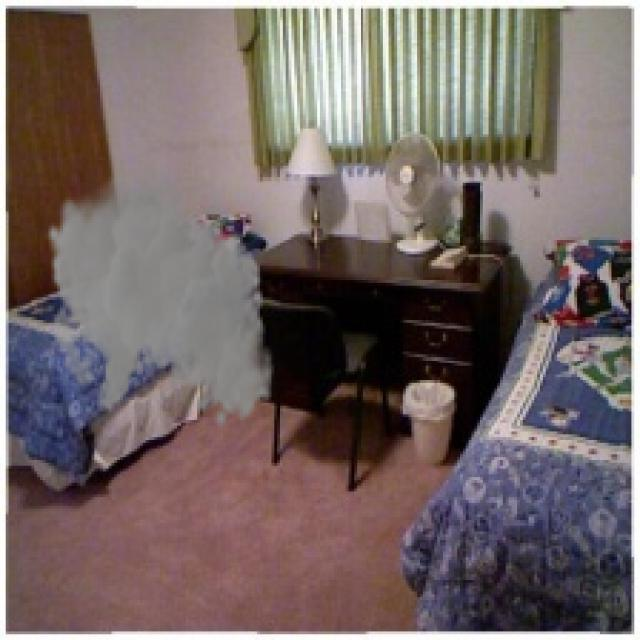Smoke: (46, 160, 274, 429)
